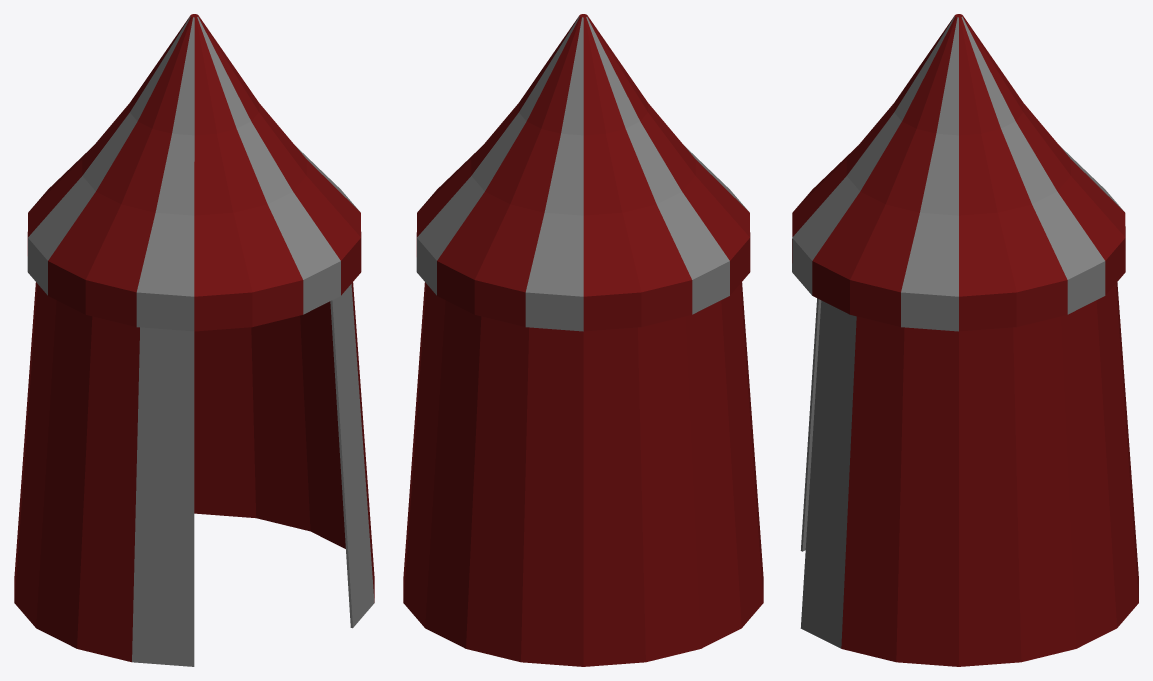
File: SM_tent_siege_02.fbx
3 views of the same model, side by side, from view 1: azimuth 30°, elevation 25°; view 2: azimuth 150°, elevation 25°; view 3: azimuth 270°, elevation 25° (orthographic).
Parts seen in each view (by area): view 1: Cylinder044; view 2: Cylinder044; view 3: Cylinder044.
Part boxes in pixels (x1,y1,x2,y2): Cylinder044: (14,14,374,666); Cylinder044: (403,14,763,666); Cylinder044: (792,14,1138,666).
Size of the model in its own units: 116 by 110 by 200.
